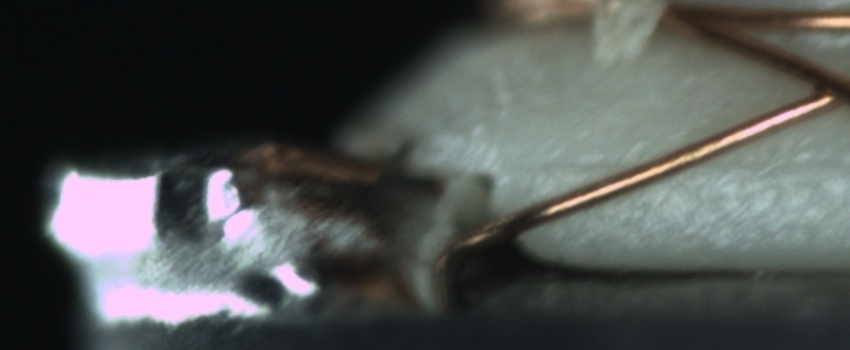CL: (792, 57, 850, 115)
DL: (534, 135, 843, 195)
